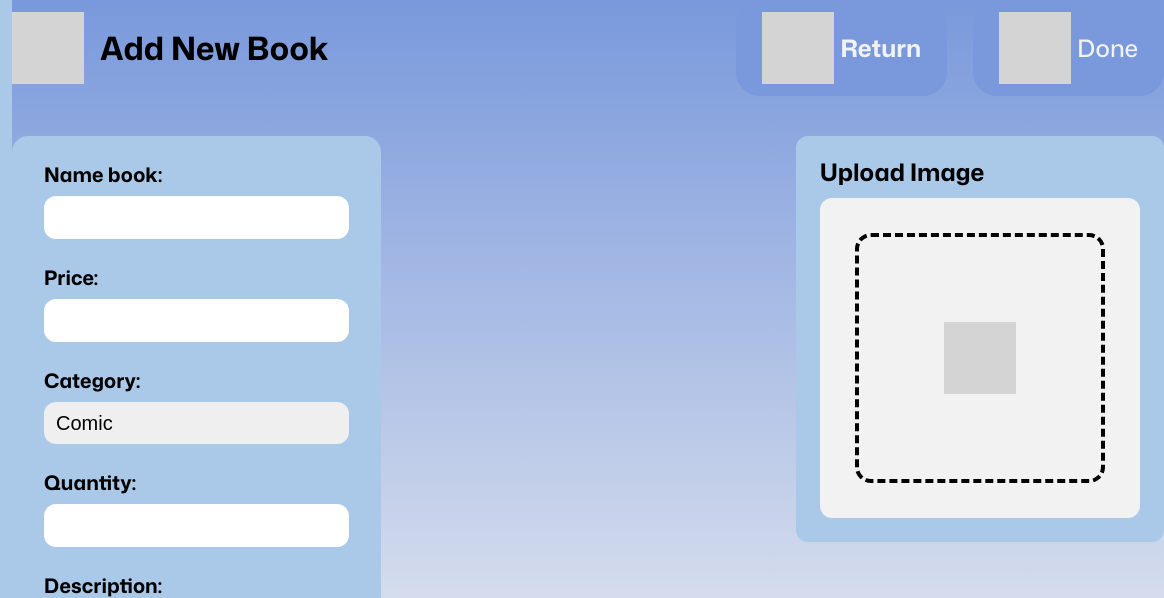
Scenario: Test CreateBook component › Hien thi loi khi nhap ten sach qua ngan
The width and height of the screenshot is (1164, 598).
Type "a" into the field with test id "input-name".
click(196, 218); type("a")  # box [44,196,349,239]
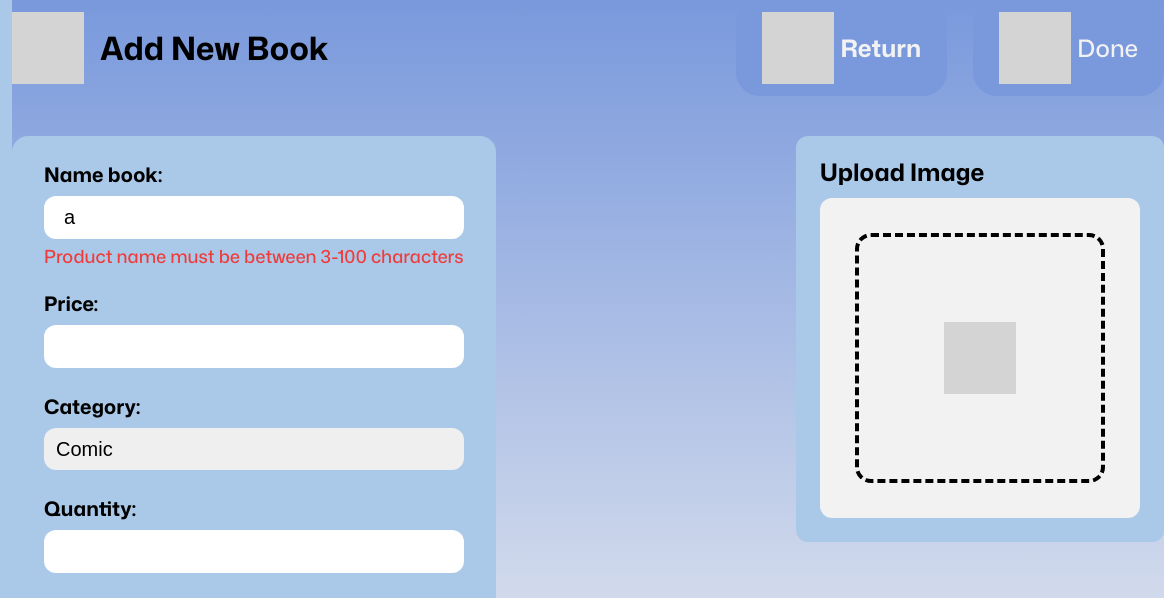
Result: the text "Product name must be between 3-100 characters" is shown at [44,247,464,265]
